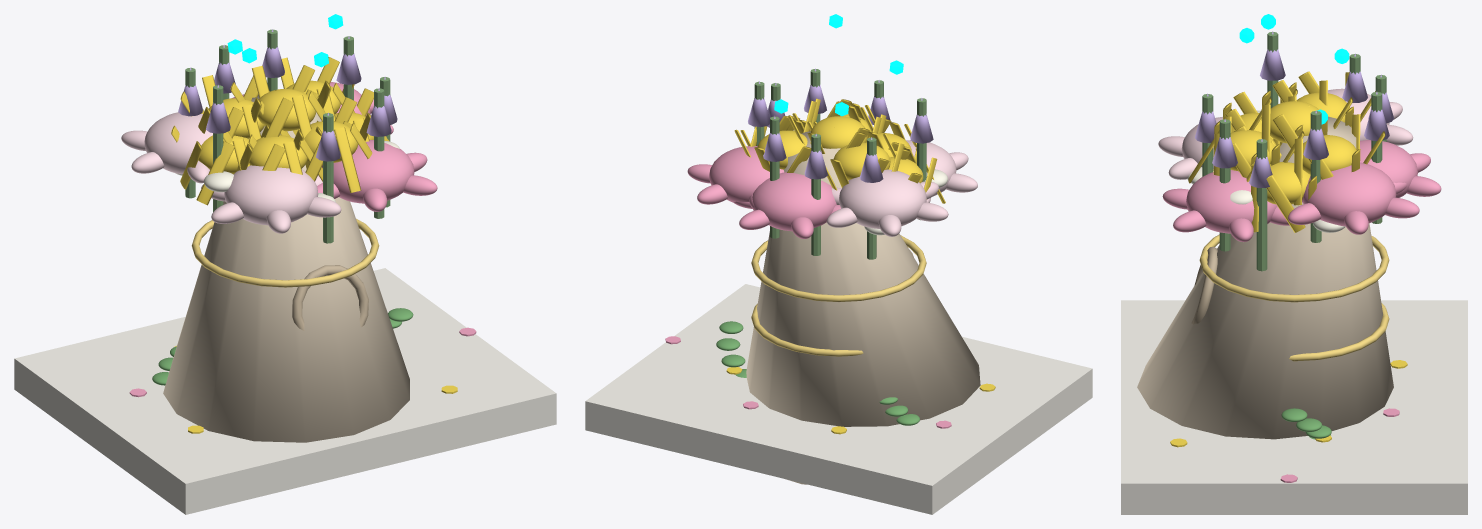
Rendered from flora_hero_bouquet.glb.
The picture shows the model from 3 angles, left to right: view 1: azimuth 30°, elevation 25°; view 2: azimuth 150°, elevation 25°; view 3: azimuth 270°, elevation 25°; orthographic projection. The views are drawn at different scales.
Parts seen in each view (by area): view 1: Cube, Cone, Sphere.028, Sphere.035, Sphere.014, Torus.001, Torus.002, Sphere, Sphere.004, Cylinder.062, Cylinder.030, Sphere.006 (+2 smaller); view 2: Cube, Cone, Sphere.014, Sphere.021, Sphere.007, Torus.001, Sphere, Sphere.002, Torus, Sphere.028, Sphere.001, Cylinder.059; view 3: Cube, Cone, Sphere.007, Sphere.035, Torus.001, Sphere.021, Cylinder.063, Sphere, Sphere.005, Sphere.001, Torus, Torus.002 (+29 smaller).
Part boxes in pixels (bbox=[...]): Cube: bbox=[14, 268, 556, 514]; Cone: bbox=[163, 95, 409, 442]; Sphere.028: bbox=[224, 165, 318, 225]; Sphere.035: bbox=[322, 140, 414, 203]; Sphere.014: bbox=[144, 112, 212, 174]; Torus.001: bbox=[191, 218, 379, 287]; Torus.002: bbox=[292, 265, 368, 330]; Sphere: bbox=[258, 88, 315, 131]; Sphere.004: bbox=[249, 135, 307, 168]; Cylinder.062: bbox=[323, 113, 333, 243]; Cylinder.030: bbox=[334, 127, 361, 192]; Sphere.006: bbox=[198, 135, 250, 174]; Cube: bbox=[585, 284, 1092, 514]; Cone: bbox=[746, 131, 980, 484]; Sphere.014: bbox=[839, 169, 926, 228]; Sphere.021: bbox=[752, 172, 836, 231]; Sphere.007: bbox=[709, 146, 784, 202]; Torus.001: bbox=[751, 235, 926, 301]; Sphere: bbox=[810, 116, 867, 148]; Sphere.002: bbox=[833, 142, 890, 180]; Torus: bbox=[751, 304, 863, 356]; Sphere.028: bbox=[906, 140, 956, 196]; Sphere.001: bbox=[757, 130, 807, 169]; Cylinder.059: bbox=[811, 134, 820, 255]; Cube: bbox=[1121, 300, 1467, 514]; Cone: bbox=[1137, 116, 1393, 439]; Sphere.007: bbox=[1302, 162, 1396, 226]; Sphere.035: bbox=[1186, 170, 1277, 233]; Torus.001: bbox=[1199, 234, 1389, 302]; Sphere.021: bbox=[1360, 140, 1417, 197]; Cylinder.063: bbox=[1256, 139, 1267, 271]; Sphere: bbox=[1270, 101, 1318, 143]; Sphere.005: bbox=[1267, 162, 1310, 204]; Sphere.001: bbox=[1302, 135, 1356, 174]; Torus: bbox=[1289, 303, 1389, 361]; Torus.002: bbox=[1191, 246, 1217, 324].
Size of the model in its own units: 2.01 by 2.26 by 1.6.
